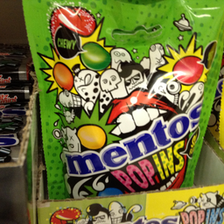candy: (27, 1, 218, 194)
